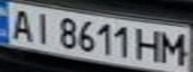1: (93, 21, 115, 56), (112, 24, 133, 58)
6: (75, 19, 96, 53)
8: (54, 16, 81, 50)
A: (3, 7, 39, 42)
H: (136, 27, 163, 63)
I: (27, 10, 57, 44)
M: (157, 29, 190, 65)
